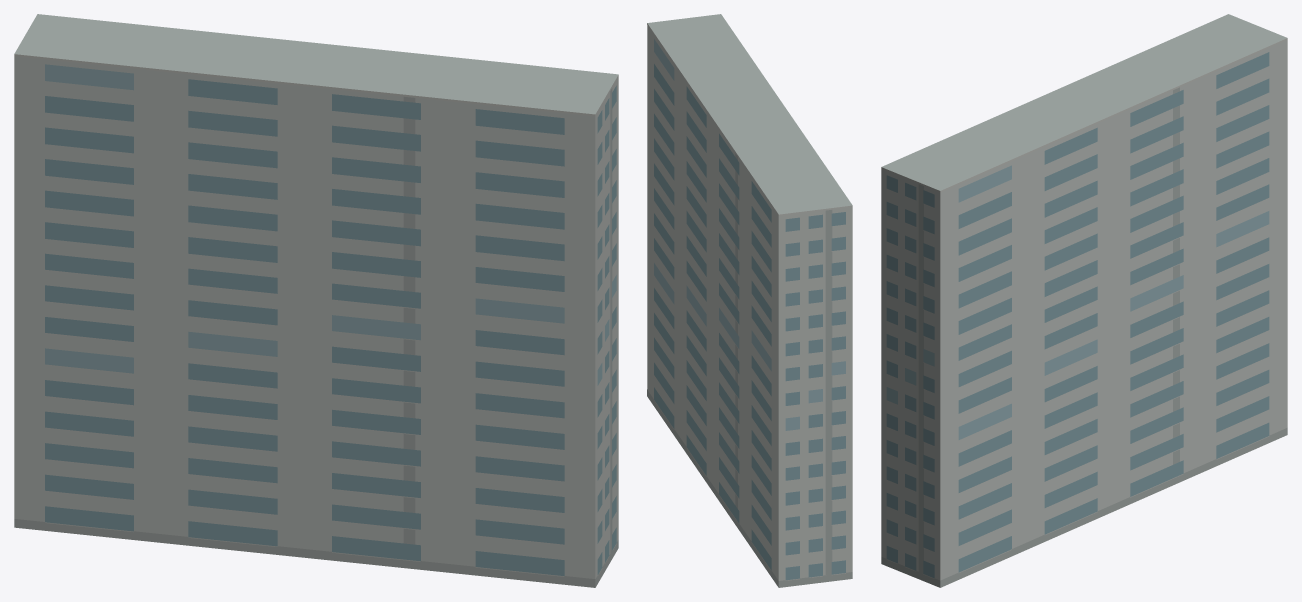
Rendered from residential-bb30c8aa-7340-4e2a-ab46-8fa5f30ce765.glb.
3 views of the same model, side by side, from view 1: azimuth 30°, elevation 25°; view 2: azimuth 150°, elevation 25°; view 3: azimuth 270°, elevation 25° (orthographic). The views are drawn at different scales.
Visible parts, largest first — view 1: residential-bb30c8aa-7340-4e2a-ab46-8fa5f30ce765.tmp; view 2: residential-bb30c8aa-7340-4e2a-ab46-8fa5f30ce765.tmp; view 3: residential-bb30c8aa-7340-4e2a-ab46-8fa5f30ce765.tmp.
Boxes of the visible parts, bbox=[...] form: residential-bb30c8aa-7340-4e2a-ab46-8fa5f30ce765.tmp: bbox=[14, 14, 618, 587]; residential-bb30c8aa-7340-4e2a-ab46-8fa5f30ce765.tmp: bbox=[647, 14, 852, 587]; residential-bb30c8aa-7340-4e2a-ab46-8fa5f30ce765.tmp: bbox=[881, 14, 1287, 587].
Bounding box in the file's own units: 50.69 × 53 × 49.19.
